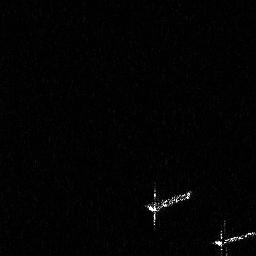ship: (144, 180, 194, 233), (210, 217, 256, 255)
